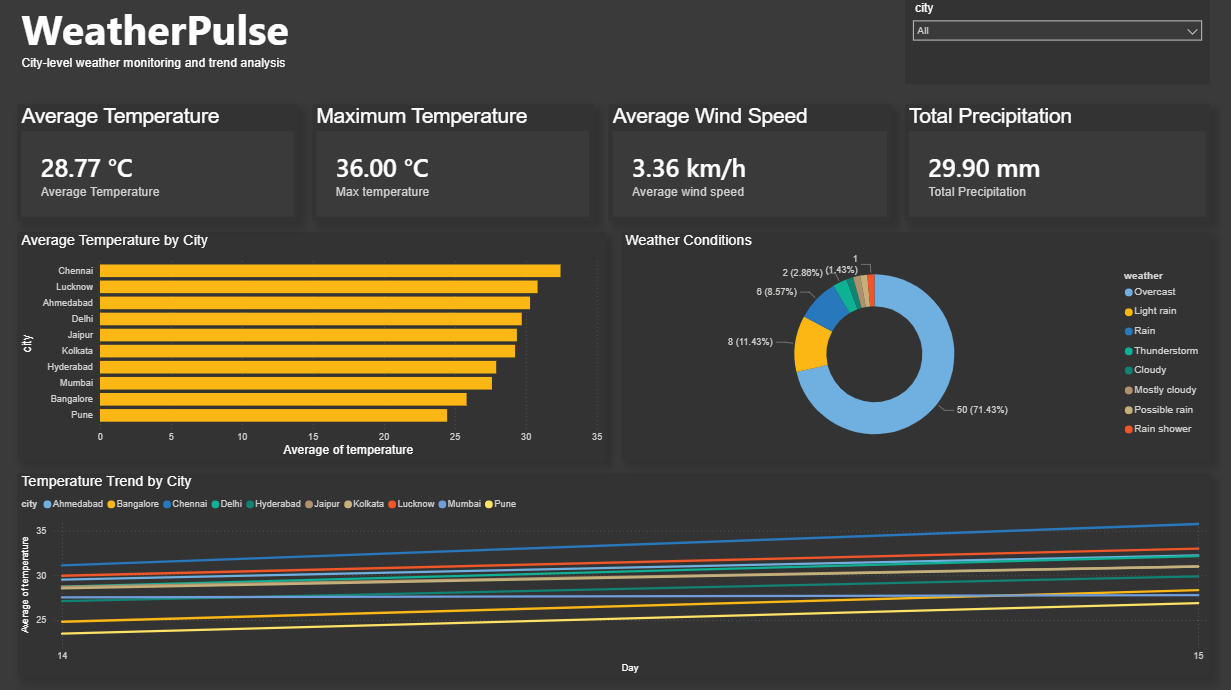

The dashboard page shown, as its layout file describes it:
{"tool":"powerbi","page":{"name":"Page 1","canvas":[1600,900],"ordinal":0},"visuals":[{"type":"cardVisual","title":"Maximum Temperature","fields":{"Data":["Max(weather_history.temperature)"]},"box":[409.7,138.7,362.9,150],"z":0},{"type":"cardVisual","title":"Average Wind Speed","fields":{"Data":["Avg(weather_history.wind_speed)"]},"box":[791.9,138.7,364.5,150],"z":1000},{"type":"cardVisual","title":"Total Precipitation","fields":{"Data":["Sum(weather_history.precipitation)"]},"box":[1174.2,138.7,393.5,150],"z":2000},{"type":"clusteredBarChart","title":"Average Temperature by City","fields":{"Y":["Avg(weather_history.temperature)"],"Category":["weather_history.city"]},"box":[29,303.2,759.7,295.2],"z":3000},{"type":"lineChart","title":"Temperature Trend by City","fields":{"Category":["weather_history.collected_at.Variation.Date Hierarchy.Day"],"Y":["Avg(weather_history.temperature)"],"Series":["weather_history.city"]},"box":[29,614.5,1538.7,262.9],"z":4000},{"type":"donutChart","title":"Weather Conditions","fields":{"Category":["weather_history.weather"],"Y":["CountNonNull(weather_history.city)"]},"box":[808.1,303.2,759.7,295.2],"z":5000},{"type":"slicer","fields":{"Values":["weather_history.city"]},"box":[1174.2,0,393.5,112.9],"z":6000},{"type":"textbox","box":[29,0,662.9,112.9],"z":7000},{"type":"cardVisual","title":"Average Temperature","fields":{"Data":["weather_history.Average Temperature"]},"box":[29,138.7,361.3,150],"z":8000}]}

Visuals, with their boxes in screenshot pixels (x1, y1, x2, y2), scaled from the page's 1600x900 canvas onto the 1231x690 screenshot:
"Maximum Temperature" cardVisual: rect(315, 106, 594, 221)
"Average Wind Speed" cardVisual: rect(609, 106, 890, 221)
"Total Precipitation" cardVisual: rect(903, 106, 1206, 221)
"Average Temperature by City" clusteredBarChart: rect(22, 232, 607, 459)
"Temperature Trend by City" lineChart: rect(22, 471, 1206, 673)
"Weather Conditions" donutChart: rect(622, 232, 1206, 459)
slicer - weather_history.city: rect(903, 0, 1206, 87)
textbox: rect(22, 0, 532, 87)
"Average Temperature" cardVisual: rect(22, 106, 300, 221)
